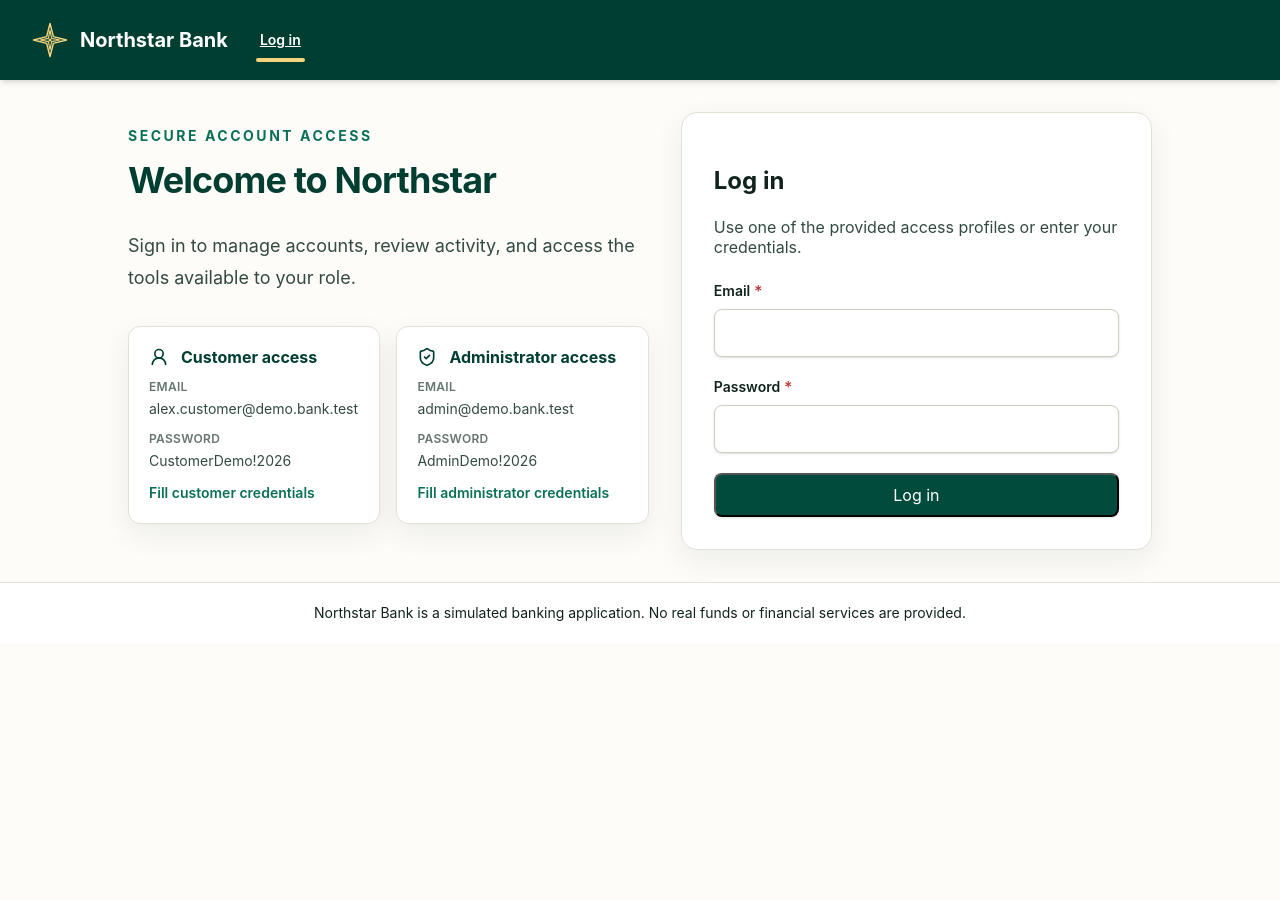
it: authentication flow › redirects an anonymous protected route and validates login
The width and height of the screenshot is (1280, 900).
Check: the heading "Log in" is shown, box [714, 166, 784, 195]
Click the button "Log in": (916, 495) [714, 473, 1119, 517]
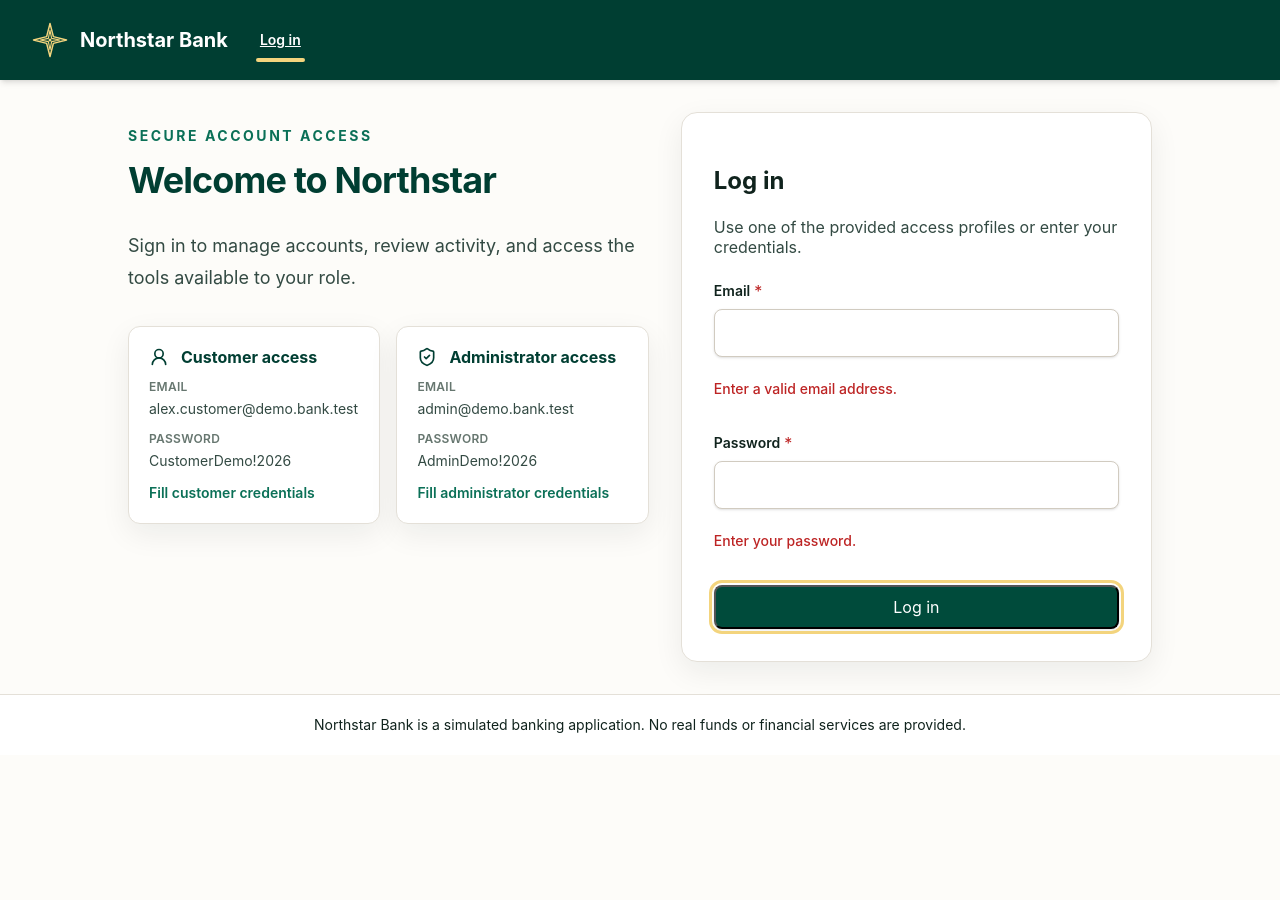
Check: the text "Enter a valid email address." is shown, box [714, 380, 897, 397]
Check: the text "Enter your password." is shown, box [714, 532, 856, 549]
